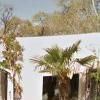Tree: (36, 44, 82, 100)
